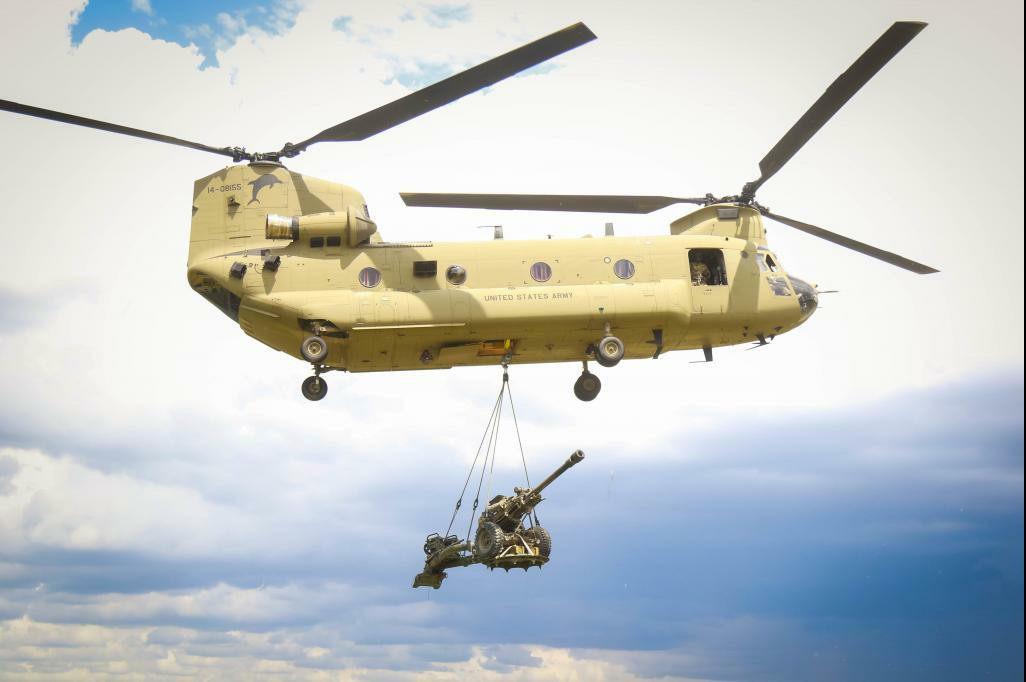chinook: (89, 42, 967, 400)
